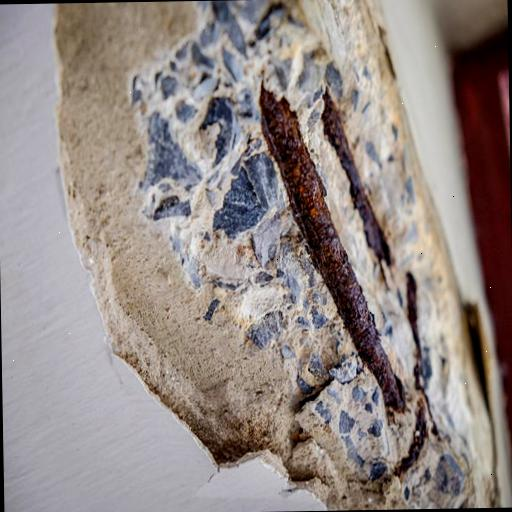spalling: (60, 1, 503, 510)
